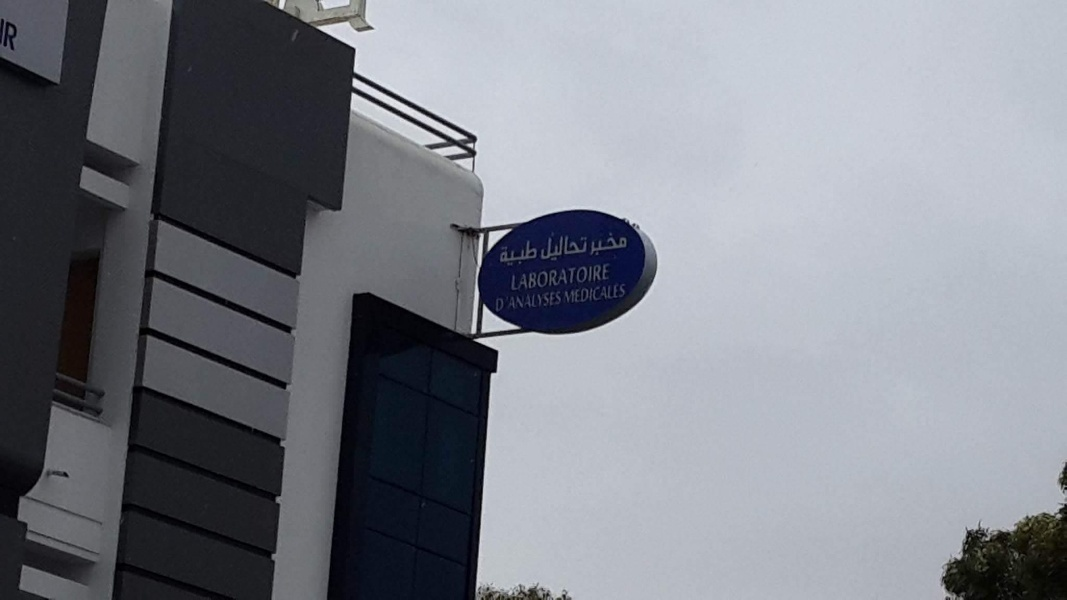text: (545, 230, 560, 266), (561, 230, 576, 266), (3, 18, 16, 53), (513, 262, 528, 292), (529, 262, 544, 292), (545, 262, 560, 292), (561, 262, 576, 292), (577, 262, 592, 292), (593, 262, 608, 292), (513, 239, 528, 267), (593, 231, 608, 258), (609, 231, 624, 258), (577, 230, 588, 266), (497, 288, 512, 314), (513, 288, 528, 314), (529, 288, 544, 314), (545, 288, 560, 314), (577, 281, 592, 305), (593, 281, 608, 305), (609, 281, 624, 305), (500, 239, 512, 267), (564, 281, 576, 305), (529, 239, 539, 267), (537, 230, 544, 266), (17, 18, 23, 53), (625, 231, 632, 258), (587, 231, 592, 258), (609, 262, 613, 292), (561, 288, 565, 314), (625, 281, 628, 305), (511, 262, 512, 292), (495, 288, 496, 314)
